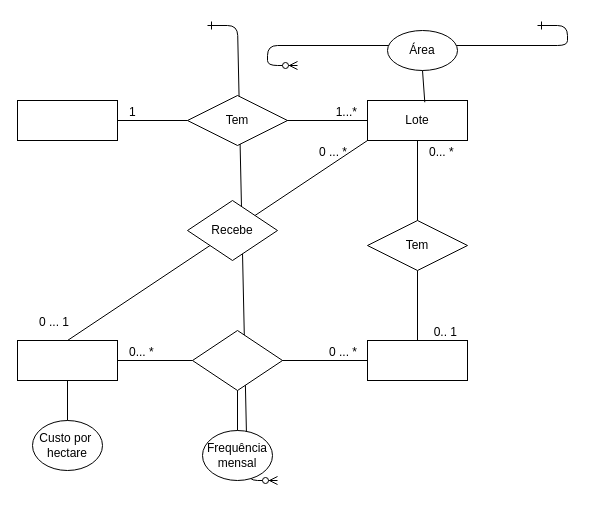
The diagram is 594 pixels wide and 507 high, and some of its shapes have lost their labels. Each missing label, with the centre of its shape:
"Fazenda" goes at point 67,120.
"Inseticida" goes at point 67,360.
"Plantação" goes at point 417,360.
"Serve para" goes at point 237,360.
